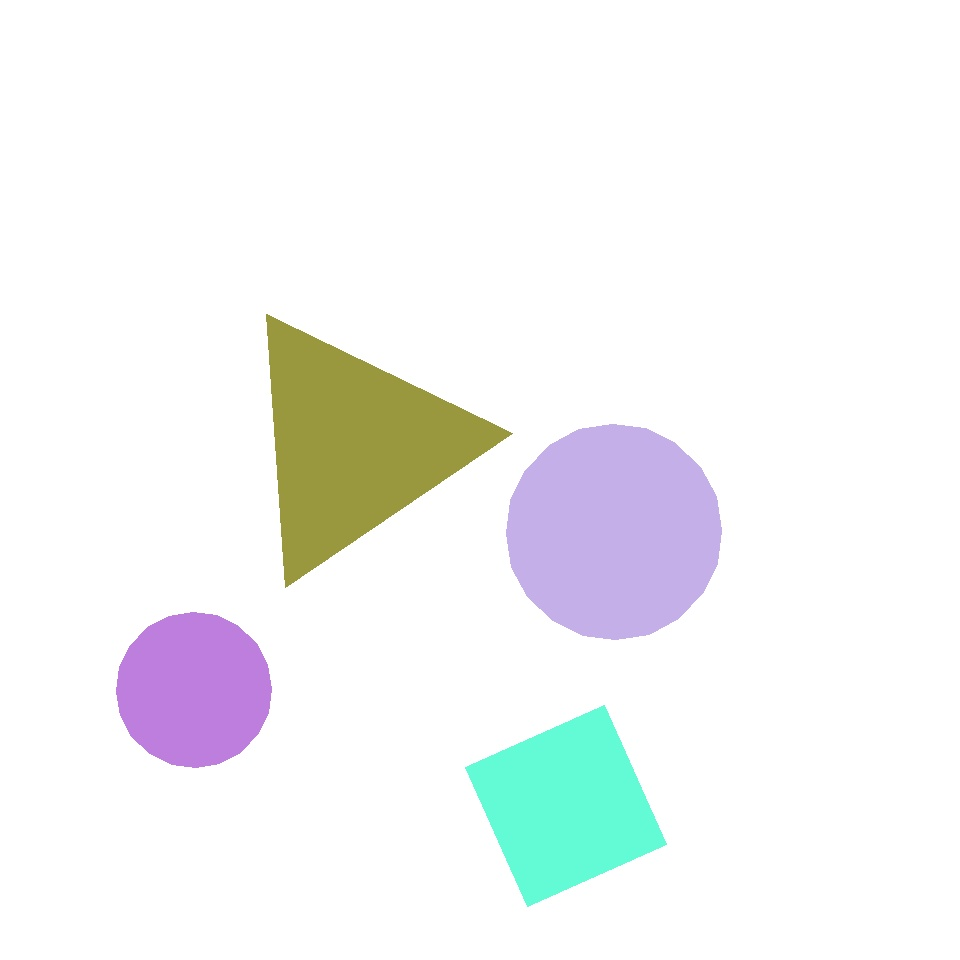circle: (232, 309, 478, 582), (373, 406, 605, 612)
square: (632, 70, 864, 302), (466, 706, 666, 906)
triangle: (538, 272, 862, 594), (506, 424, 721, 640), (116, 612, 272, 768)
